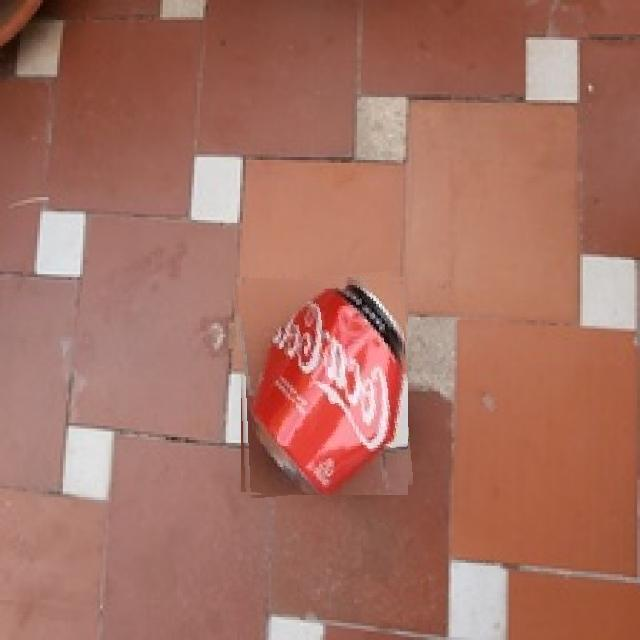recyclable: (236, 274, 408, 495)
